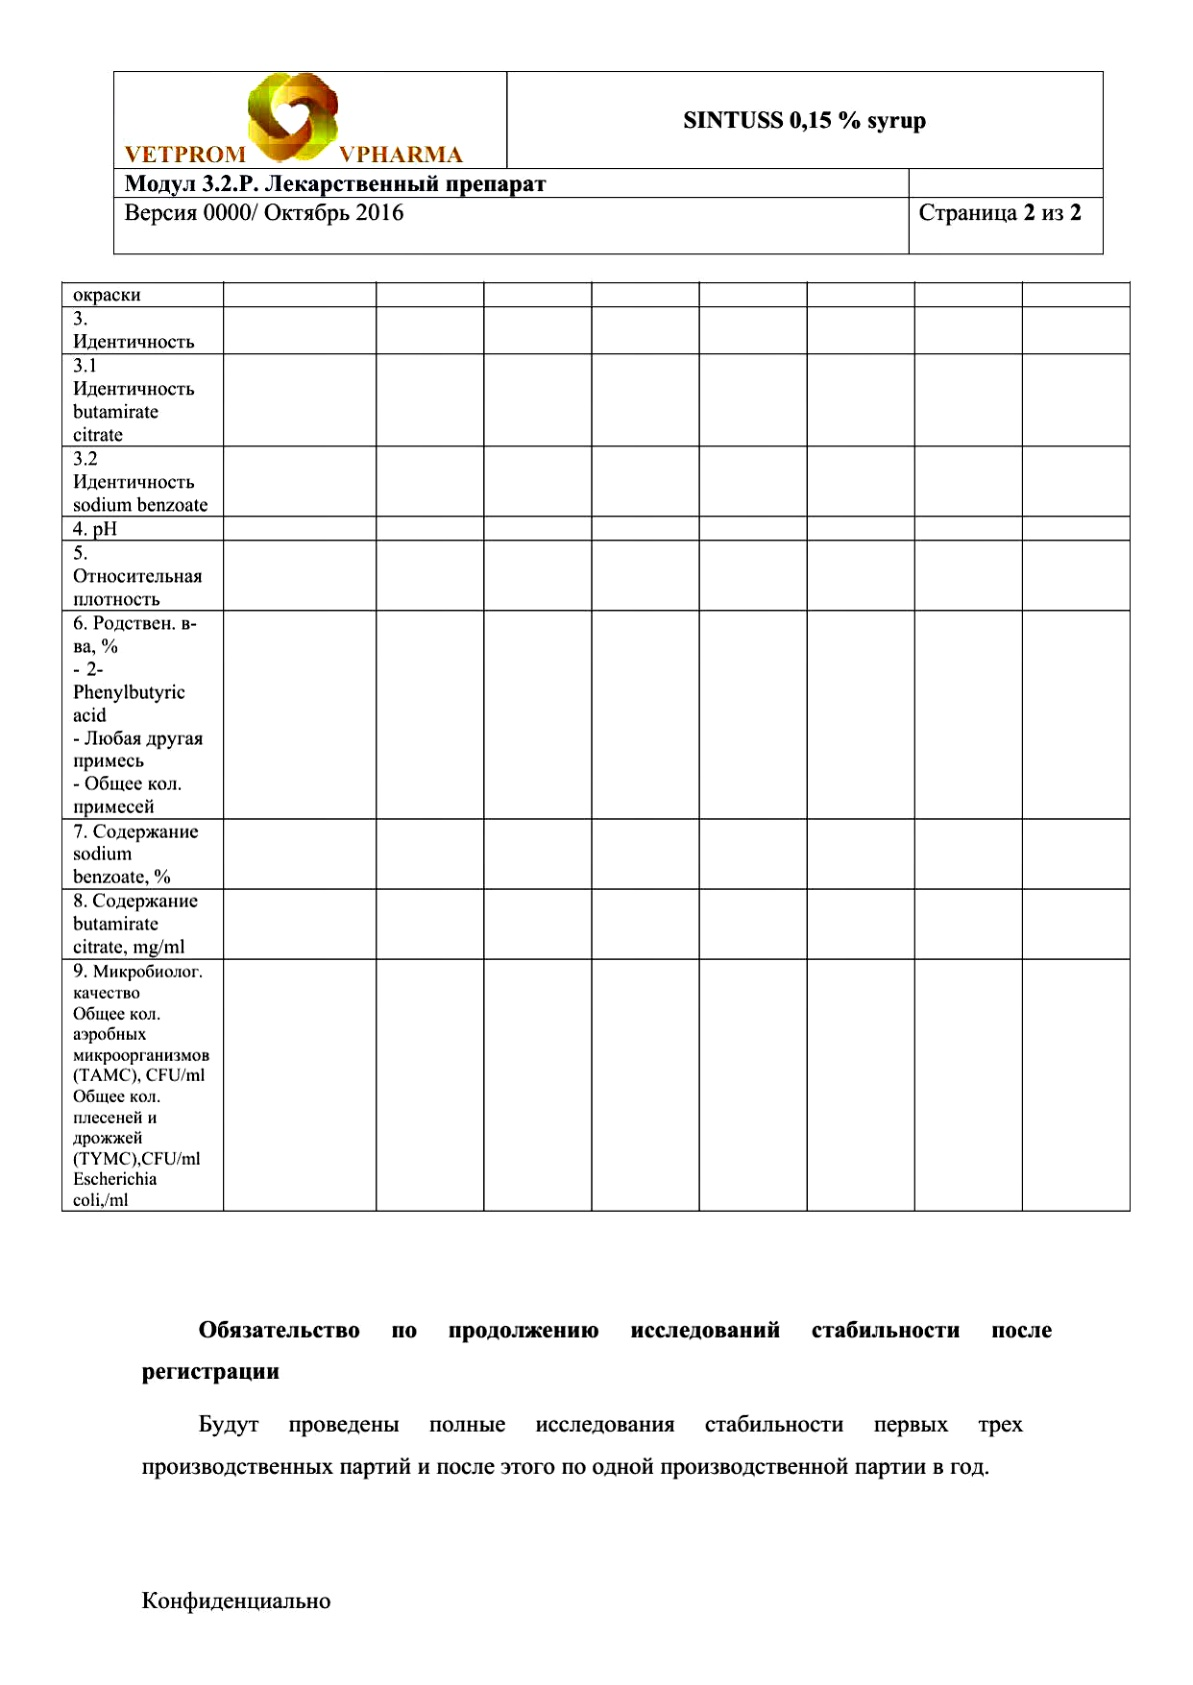full_lined: (59, 280, 1132, 1212)
merged_cells: (112, 68, 1104, 256)
